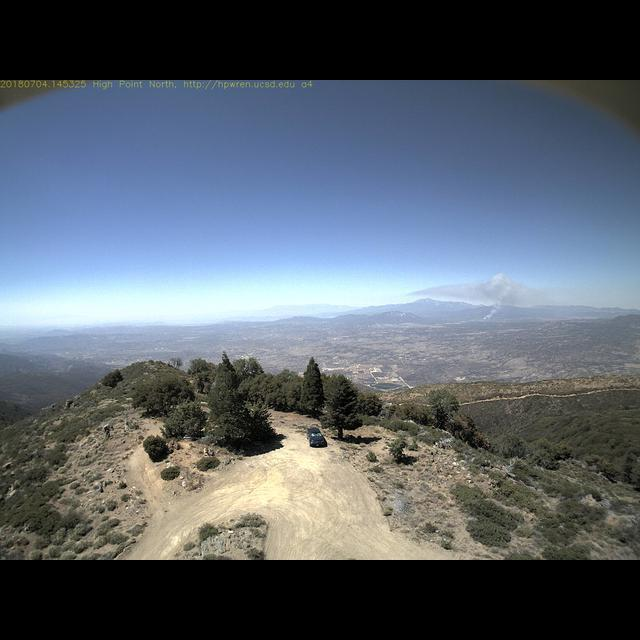Smoke: (406, 271, 554, 323)
